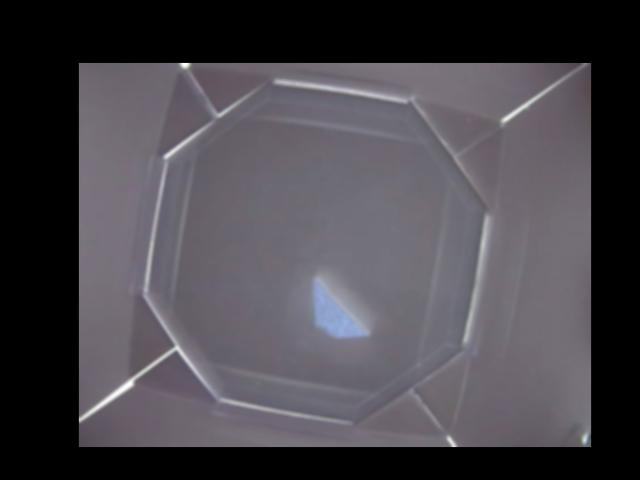China: (312, 274, 367, 339)
